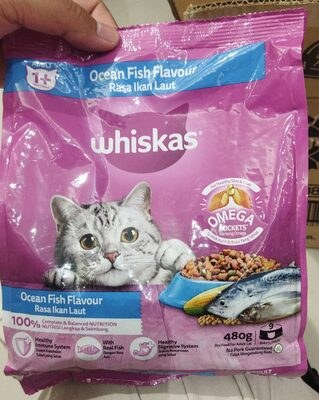Whiskas 1+adult ocean fish flavour 480gr: (16, 20, 303, 380)
